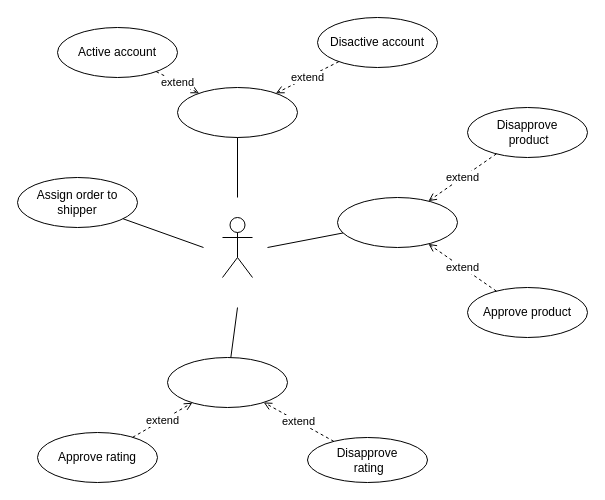
Image size: 605x500. Some labels were removed from this diagram. Each missing label, with the box of its shape:
Admin: (222, 216, 252, 278)
Manage account: (176, 86, 298, 138)
Manage product: (336, 196, 458, 248)
Manage rating: (166, 356, 288, 408)
